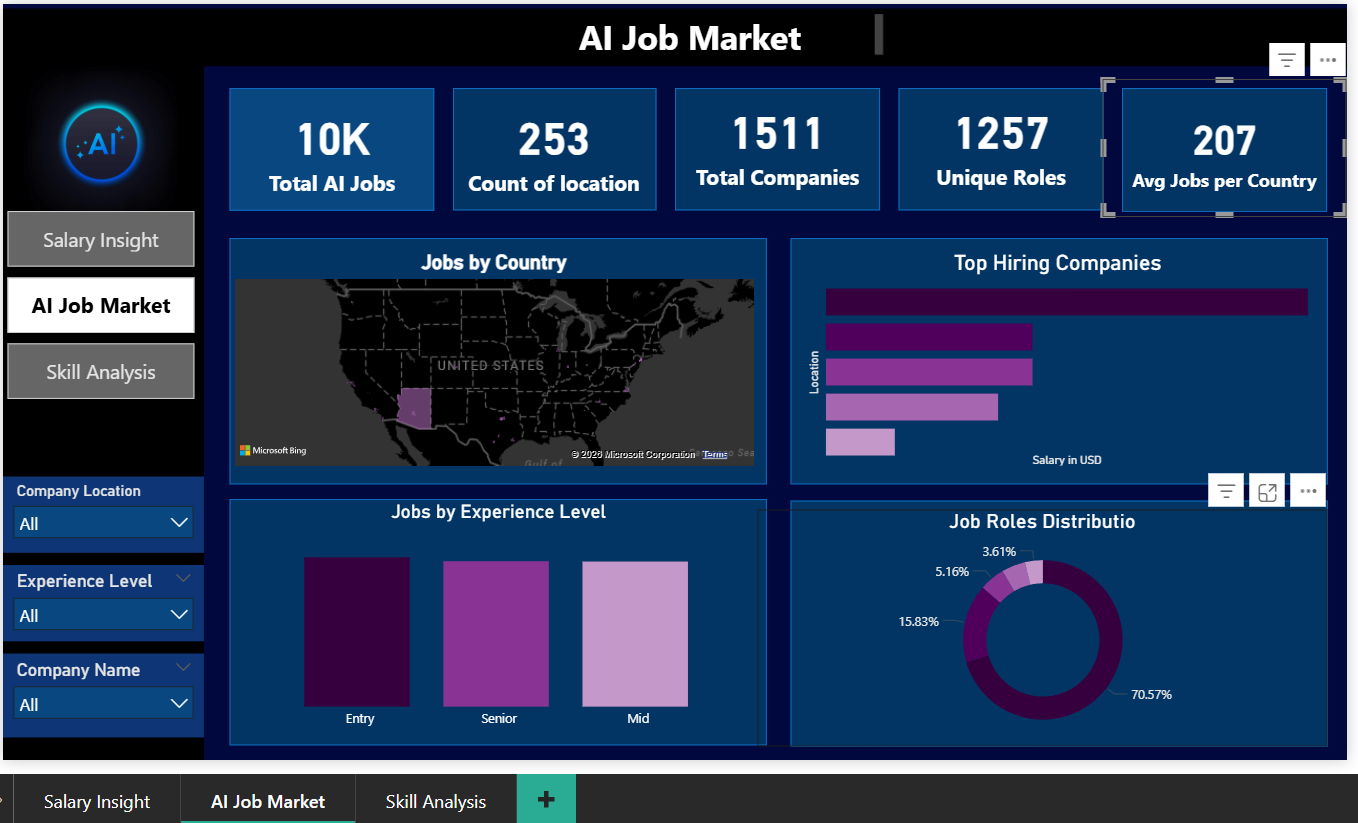

This screenshot's page, from the dashboard's own definition file:
{"tool":"powerbi","page":{"name":"AI Job Market","canvas":[1280,720],"ordinal":1},"visuals":[{"type":"shape","box":[0,4.1,1279.8,55.1],"z":0},{"type":"shape","box":[0,55.1,191.5,665.4],"z":1000},{"type":"textbox","box":[542.8,4.1,300.3,51],"z":2000},{"type":"shape","box":[215,79.9,195,117],"z":3000},{"type":"card","fields":{"Values":["clean_ai_jobs.Total AI Jobs"]},"box":[196.8,71.2,231.7,131.7],"z":4000},{"type":"shape","box":[215,222.6,511.8,234.7],"z":5000},{"type":"shape","box":[749.5,222.6,511.8,234.7],"z":6000},{"type":"filledMap","title":"Jobs by Country","fields":{"Y":["CountNonNull(clean_jobs_Ready.job_title)"],"Category":["clean_jobs_Ready.location"]},"box":[215,234.7,504.2,210.5],"z":7000},{"type":"barChart","title":"Top Hiring Companies","fields":{"Category":["clean_jobs_Ready.company_name"],"Y":["clean_salary.Total Jobs"]},"box":[761.6,234.7,486.1,210.5],"z":8000},{"type":"shape","box":[215,470.9,511.8,234.7],"z":9000},{"type":"shape","box":[749.5,472.4,511.8,234.7],"z":10000},{"type":"columnChart","title":"Jobs by Experience Level","fields":{"Category":["clean_ai_jobs.experience_level"],"Y":["CountNonNull(clean_ai_jobs.job_title)"]},"box":[228.6,472.4,487,226],"z":11000},{"type":"donutChart","title":"Job Roles Distributio","fields":{"Category":["clean_jobs_Ready.job_title"],"Y":["CountNonNull(clean_jobs_Ready.job_title)"]},"box":[718.6,481.4,542.9,225.7],"z":12000},{"type":"slicer","fields":{"Values":["clean_jobs_Ready.company_name"]},"box":[0,450,191.4,72.9],"z":13000},{"type":"slicer","fields":{"Values":["clean_salary.experience_level"]},"box":[0,534.3,191.4,72.9],"z":14000},{"type":"slicer","fields":{"Values":["clean_jobs_Ready.company_name"]},"box":[0,618.6,191.4,80],"z":15000},{"type":"shape","box":[427.9,80.1,193.8,116.6],"z":16000},{"type":"shape","box":[639.6,80.1,195.3,116.6],"z":17000},{"type":"shape","box":[852.8,80.1,195.3,116.6],"z":18000},{"type":"shape","box":[1066,79.4,195.3,118.1],"z":19000},{"type":"card","fields":{"Values":["Count(clean_jobs_Ready.location)"]},"box":[408.8,71.2,231.7,131.7],"z":20000},{"type":"card","fields":{"Values":["clean_salary.Total Companies"]},"box":[620.8,65.1,231.7,131.7],"z":21000},{"type":"card","fields":{"Values":["clean_salary.Unique Roles"]},"box":[834.3,65.1,231.7,131.7],"z":22000},{"type":"card","fields":{"Values":["clean_jobs_Ready.Avg Jobs per Country"]},"box":[1047.8,71.2,231.7,131.7],"z":23000},{"type":"image","box":[10.6,56,168.1,154.4],"z":24000},{"type":"pageNavigator","box":[4.3,197.1,178.6,181.4],"z":24001}]}

Visuals, with their boxes on the page's 1280x720 design canvas (x1, y1, x2, y2). These are canvas units, not pixel positions in the 1358x823 screenshot, which may show the page scaled, cropped or inside an application window:
shape: left=0, top=4, right=1280, bottom=59
shape: left=0, top=55, right=192, bottom=720
textbox: left=543, top=4, right=843, bottom=55
shape: left=215, top=80, right=410, bottom=197
card - clean_ai_jobs.Total AI Jobs: left=197, top=71, right=428, bottom=203
shape: left=215, top=223, right=727, bottom=457
shape: left=750, top=223, right=1261, bottom=457
"Jobs by Country" filledMap: left=215, top=235, right=719, bottom=445
"Top Hiring Companies" barChart: left=762, top=235, right=1248, bottom=445
shape: left=215, top=471, right=727, bottom=706
shape: left=750, top=472, right=1261, bottom=707
"Jobs by Experience Level" columnChart: left=229, top=472, right=716, bottom=698
"Job Roles Distributio" donutChart: left=719, top=481, right=1262, bottom=707
slicer - clean_jobs_Ready.company_name: left=0, top=450, right=191, bottom=523
slicer - clean_salary.experience_level: left=0, top=534, right=191, bottom=607
slicer - clean_jobs_Ready.company_name: left=0, top=619, right=191, bottom=699
shape: left=428, top=80, right=622, bottom=197
shape: left=640, top=80, right=835, bottom=197
shape: left=853, top=80, right=1048, bottom=197
shape: left=1066, top=79, right=1261, bottom=198
card - Count(clean_jobs_Ready.location): left=409, top=71, right=640, bottom=203
card - clean_salary.Total Companies: left=621, top=65, right=852, bottom=197
card - clean_salary.Unique Roles: left=834, top=65, right=1066, bottom=197
card - clean_jobs_Ready.Avg Jobs per Country: left=1048, top=71, right=1280, bottom=203
image: left=11, top=56, right=179, bottom=210
pageNavigator: left=4, top=197, right=183, bottom=378
